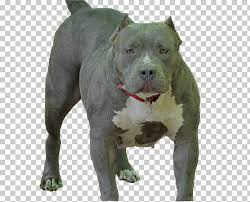Perro Pitbull: (69, 6, 203, 202)
